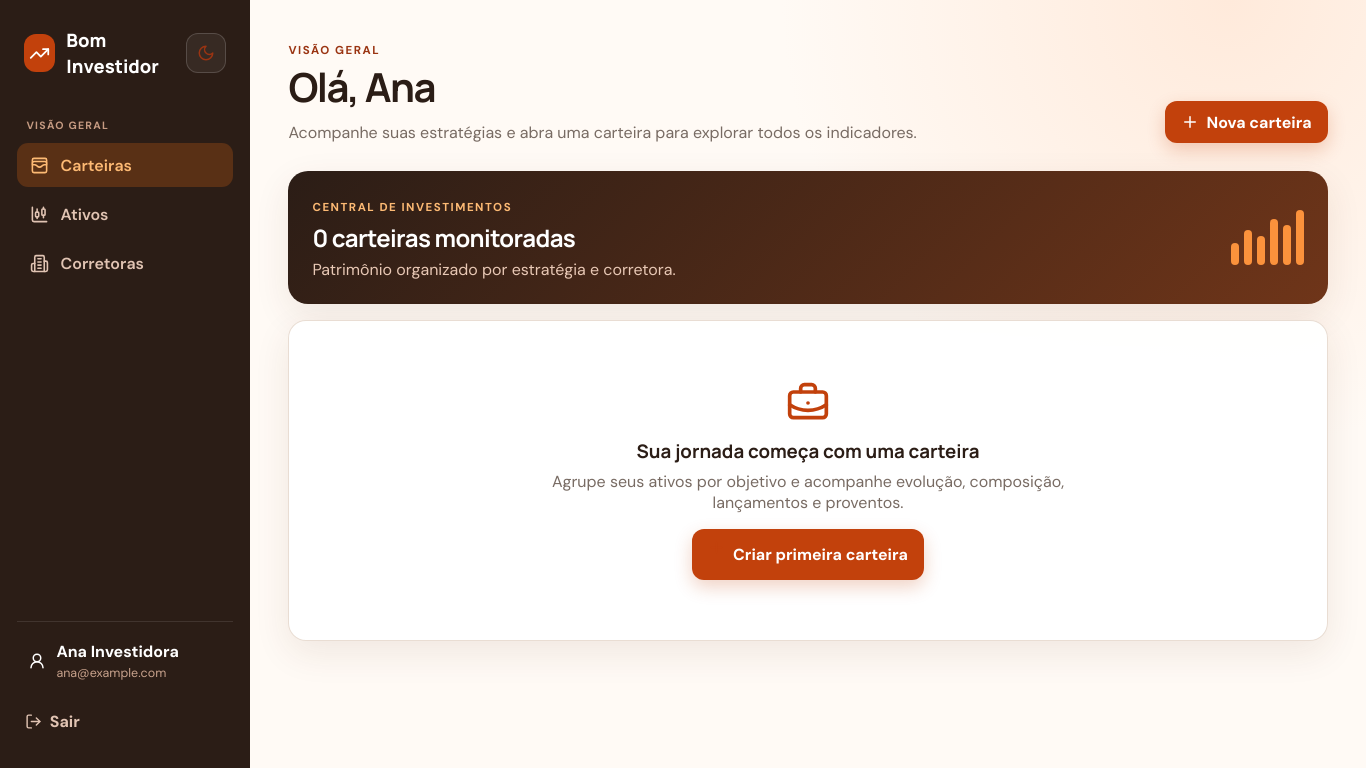
abre o perfil ao clicar na identidade do investidor
expect the heading "Olá, Ana" is shown: met, box [288,59,435,114]
Click the link "Ana Investidora ana@example.com" at (104, 661), box [28,641,179,681]
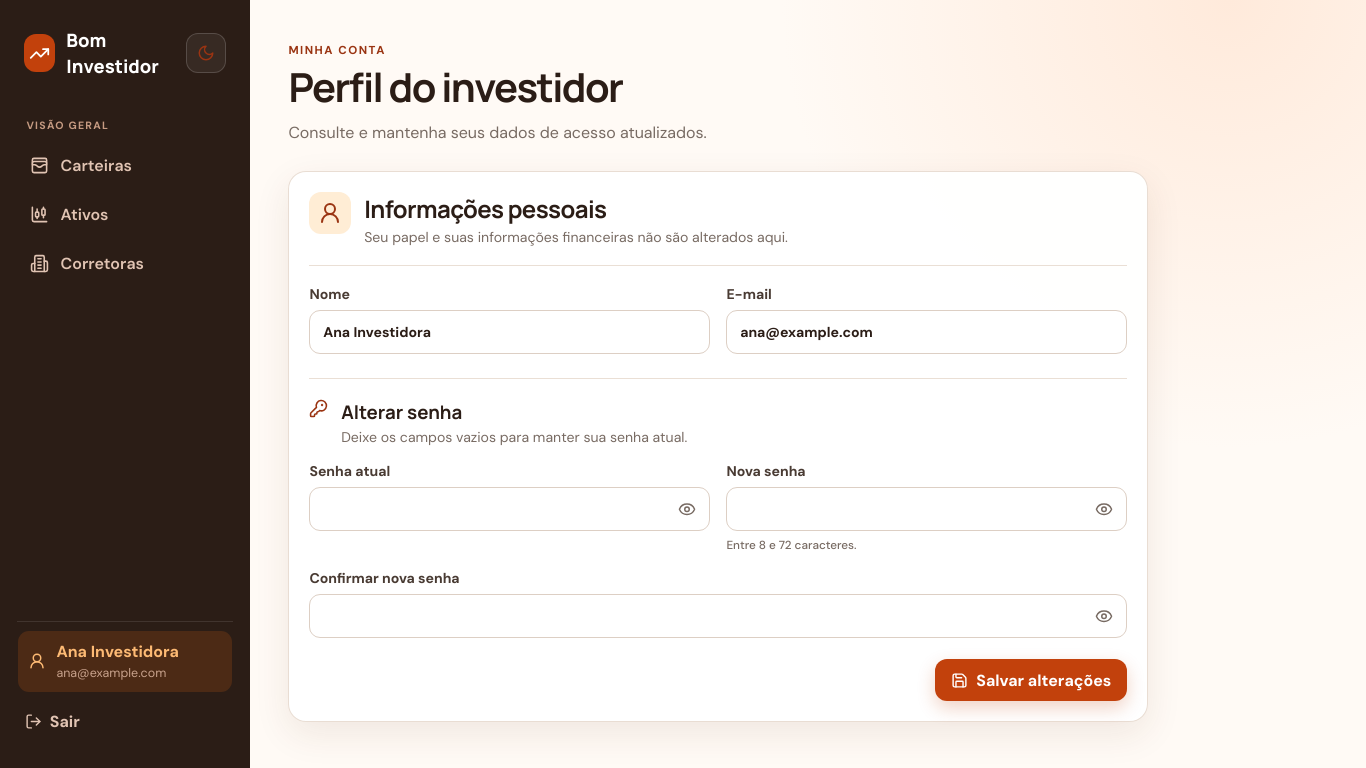
expect the heading "Perfil do investidor" is shown: met, box [288,59,622,114]
